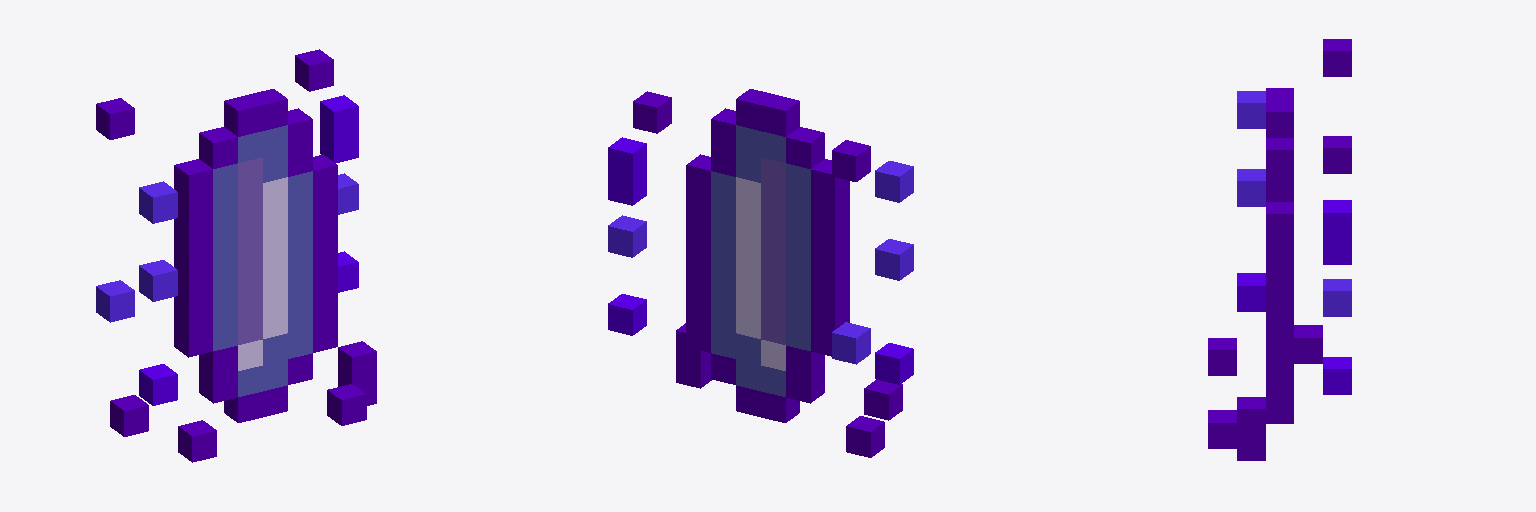
The picture shows the model from 3 angles: view 1: azimuth 30°, elevation 25°; view 2: azimuth 150°, elevation 25°; view 3: azimuth 270°, elevation 25°; orthographic projection.
Visible parts, largest first — view 1: object 1; view 2: object 1; view 3: object 1.
Boxes of the visible parts, box(x1,y1,x2,y2) form: object 1: box(96, 49, 376, 462); object 1: box(608, 89, 913, 457); object 1: box(1208, 39, 1351, 460).
Bounding box in the file's own units: 1 × 1.2 × 0.5.
Materials: 1 (1 with a texture image).